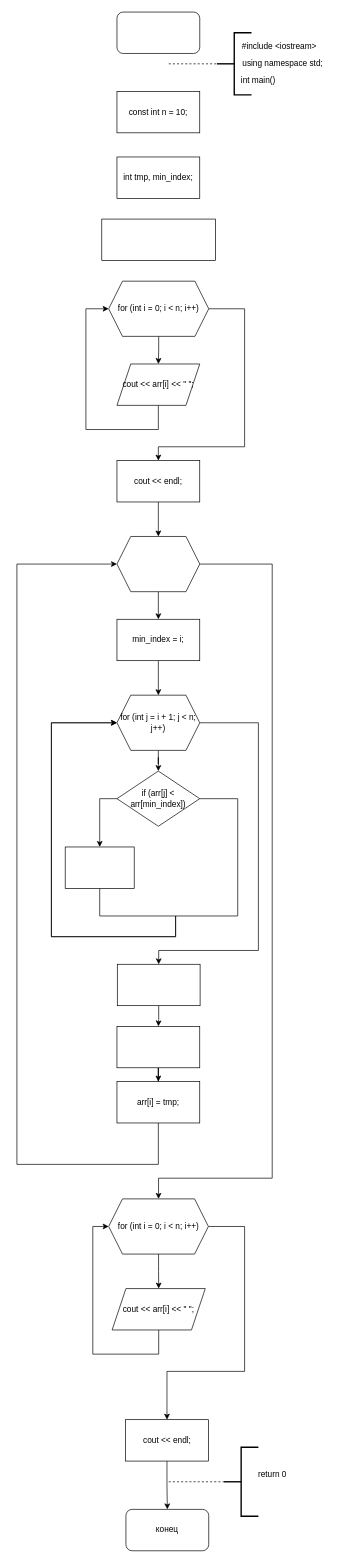
The diagram is 339 pixels wide and 1563 high, and some of its shapes have lost their labels. Here are the shapes that lost their labels. From the top down, the box of each, then its label:
(116, 11, 200, 53): начало
(101, 218, 216, 260): int arr[10] = { 5, 2, 4, 6, 0, 1, 3 ,-11,-128,943};
(116, 536, 200, 592): for (int i = 0; i < n - 1; i++)
(65, 846, 134, 888): min_index = j;
(117, 964, 200, 1006): tmp = arr[min_index];
(116, 1026, 200, 1068): arr[min_index] = arr[i];
